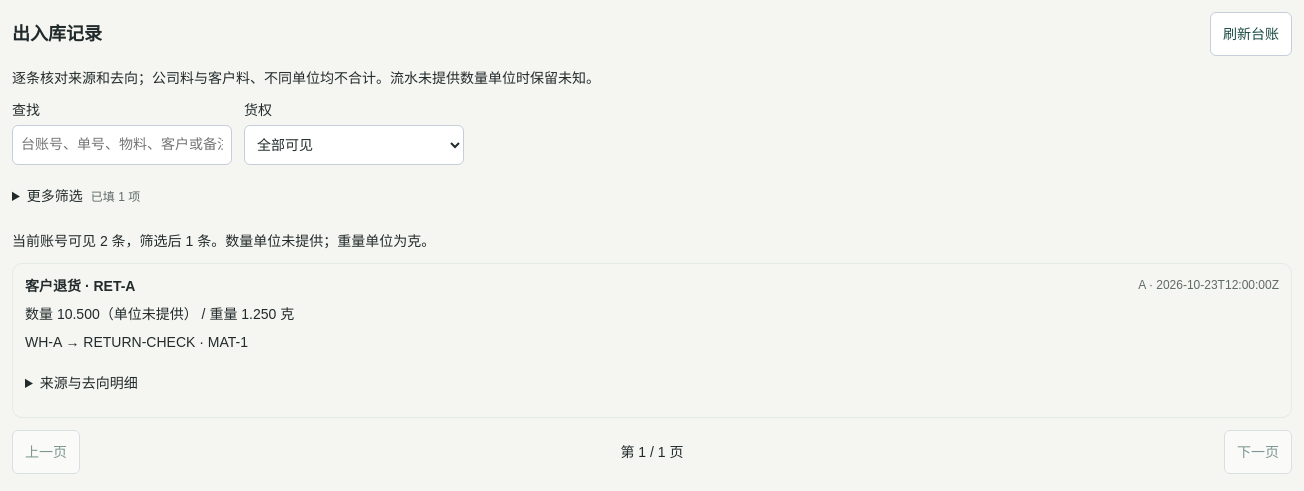
it: 独立出入库检索 › 原单精确核对使用真实流水，刷新失败撤下旧记录并显示错误
Expected: the number of elements with class "ledger-entry" is 1, [12, 263, 1292, 418]
Expected: the element with class "ledger-entry" shows "RET-A", [25, 278, 136, 294]
Step 1. Click the button "刷新台账" → (1251, 34), box [1210, 12, 1292, 56]
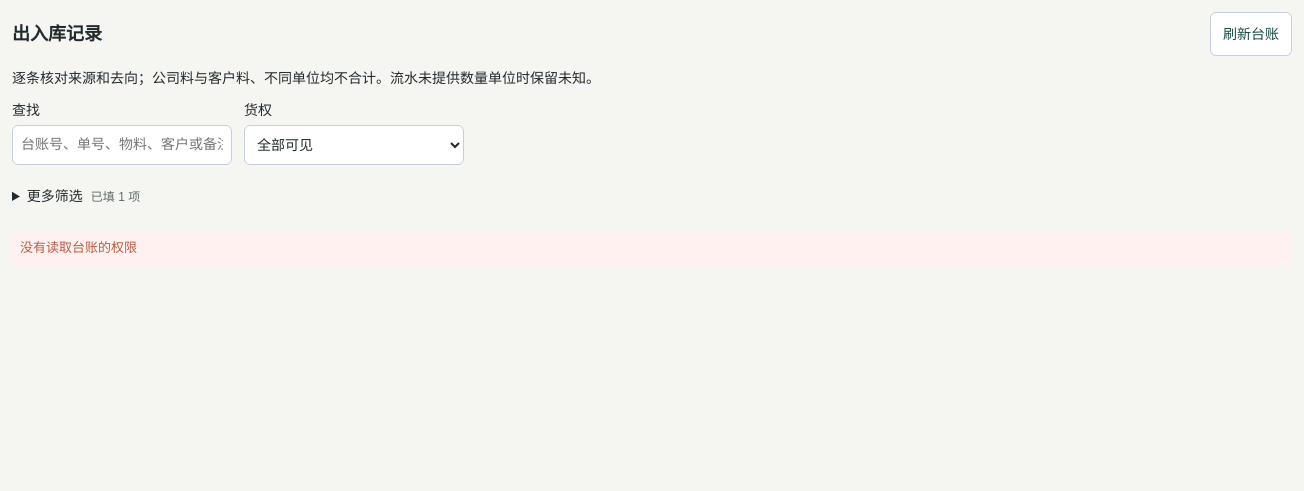
Expected: the message "没有读取台账的权限" is shown, [12, 231, 1292, 265]
